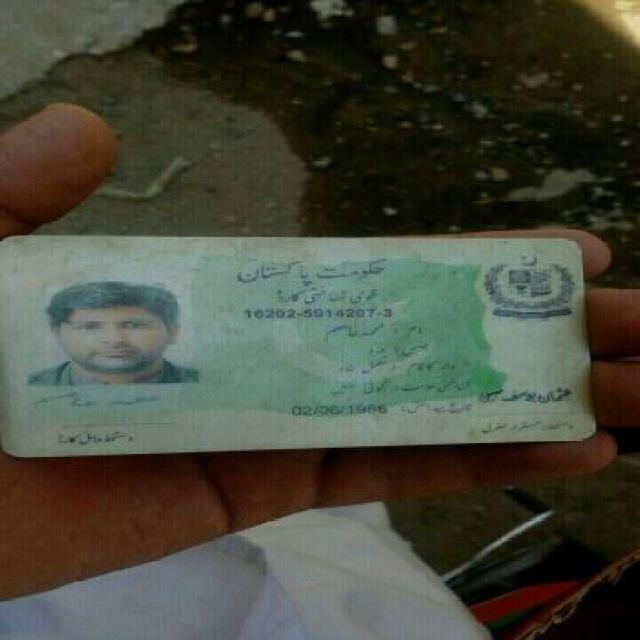Front: (3, 222, 611, 448)
